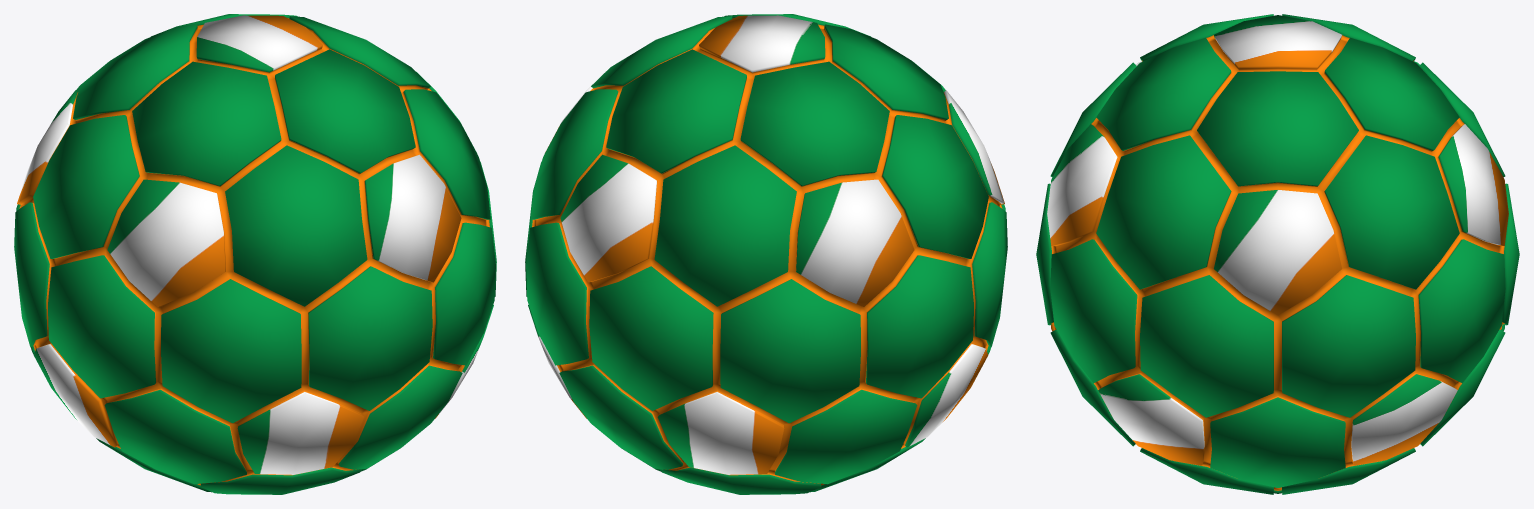
The model's file is pelotaCOSTADEMARFIL.glb.
3 renders of one model, left to right at view 1: azimuth 30°, elevation 25°; view 2: azimuth 150°, elevation 25°; view 3: azimuth 270°, elevation 25°, orthographic.
Visible parts, largest first — view 1: Material_001-material; view 2: Material_001-material; view 3: Material_001-material.
Boxes of the visible parts, <box> form: Material_001-material: <box>14,14,496,494</box>; Material_001-material: <box>525,14,1007,494</box>; Material_001-material: <box>1036,14,1519,494</box>.
Size of the model in its own units: 0.011 by 0.0112 by 0.0111.
1 material, 1 textured.
